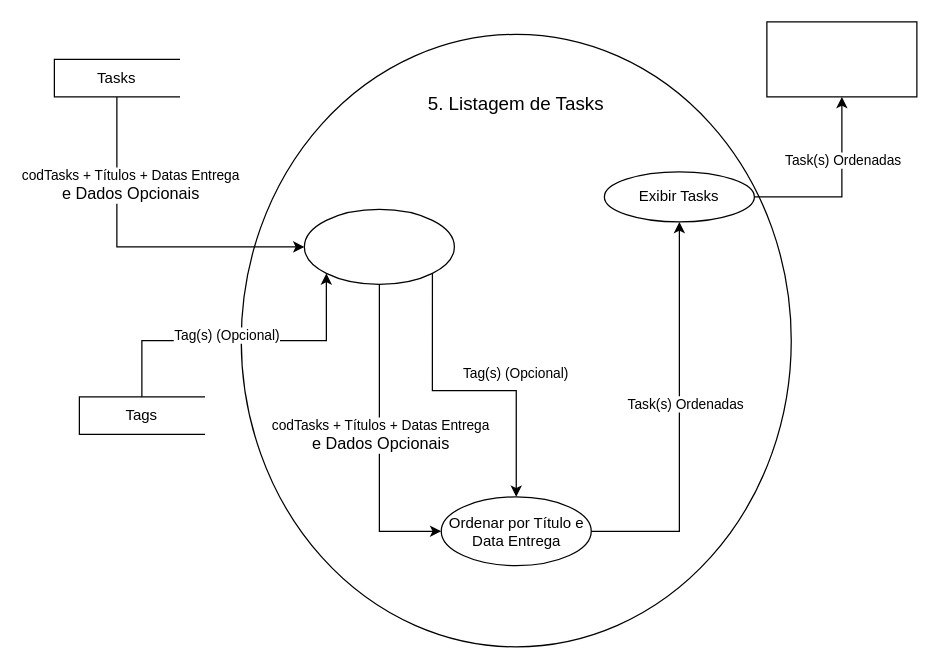
Image size: 939x669. Some labels were removed from this diagram. The shapes that lost their labels are listed below. From the top down, each one's centre as x and y in pixels, then its label:
At (841,59): "Usuário".
At (378,246): "Consultar Tasks Criadas".
